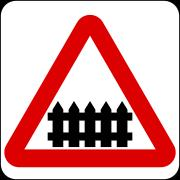Barrier Ahead: (9, 10, 174, 172)
